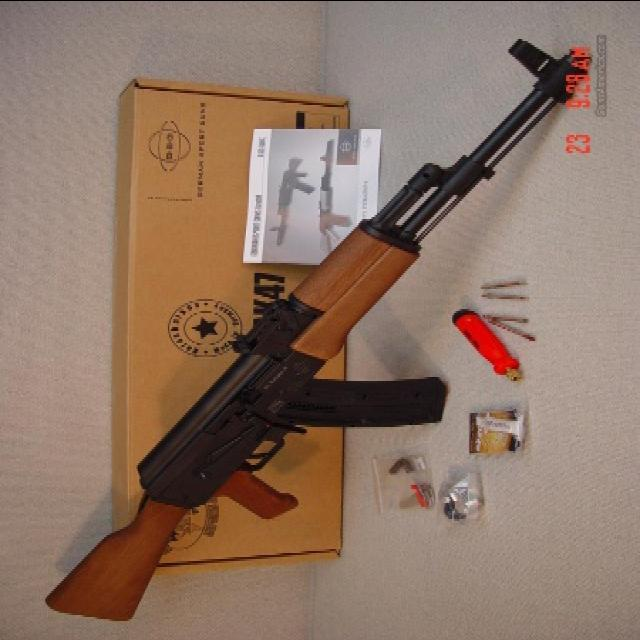rifle: (37, 33, 600, 635)
